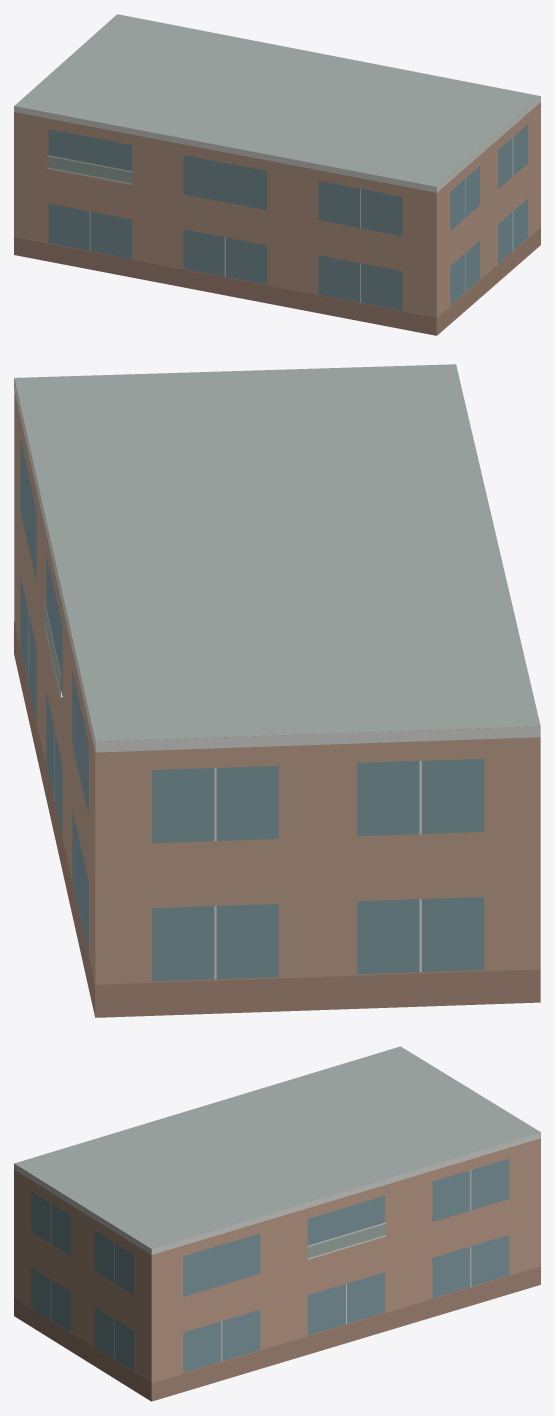
The model's file is survey-upis-32802292.glb.
The picture shows the model from 3 angles, top to bottom: view 1: azimuth 30°, elevation 25°; view 2: azimuth 150°, elevation 25°; view 3: azimuth 270°, elevation 25°; orthographic projection. The views are drawn at different scales.
Parts seen in each view (by area): view 1: survey-upis-32802292.tmp; view 2: survey-upis-32802292.tmp; view 3: survey-upis-32802292.tmp.
Part boxes in pixels (<box>): survey-upis-32802292.tmp: <box>14,14,540,335</box>; survey-upis-32802292.tmp: <box>14,364,540,1017</box>; survey-upis-32802292.tmp: <box>14,1046,540,1401</box>.
Bounding box in the file's own units: 17.39 × 6.1 × 19.09.
